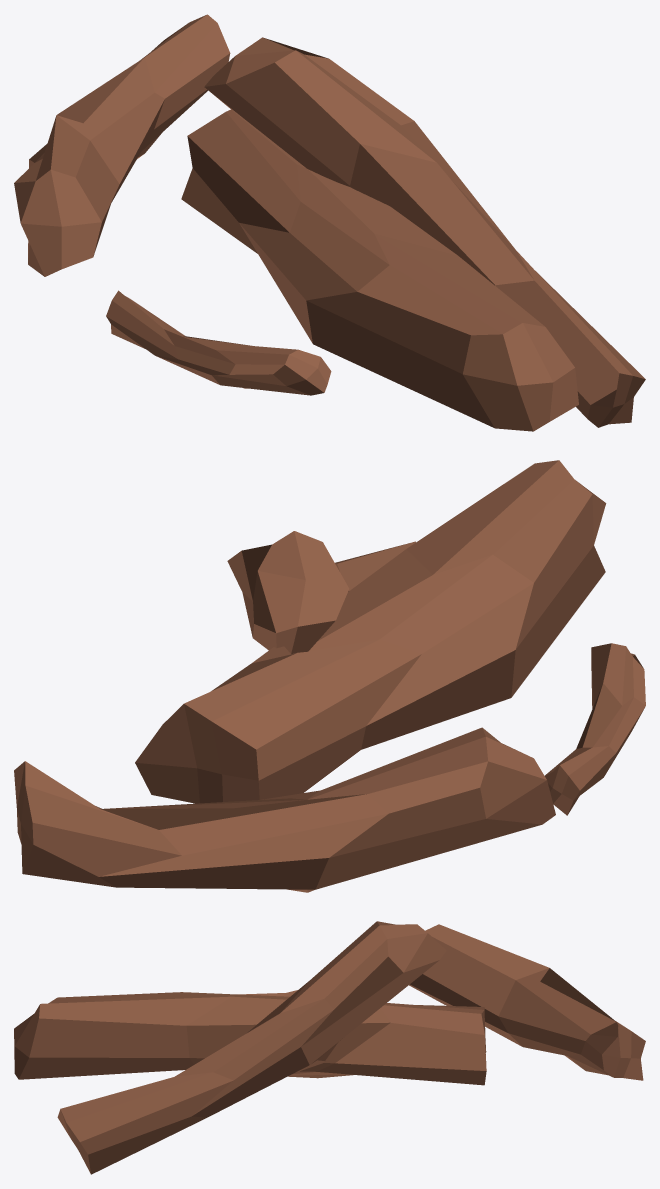
The model's file is Sticks.fbx.
The picture shows the model from 3 angles, top to bottom: view 1: azimuth 30°, elevation 25°; view 2: azimuth 150°, elevation 25°; view 3: azimuth 270°, elevation 25°; orthographic projection. The views are drawn at different scales.
Parts seen in each view (by area): view 1: Cube, Cube.001, Cube.002, Cube.003; view 2: Cube, Cube.002, Cube.001, Cube.003; view 3: Cube, Cube.001, Cube.002.
Part boxes in pixels (box(x1,y1,x2,y2)): Cube: box(181, 109, 578, 431); Cube.001: box(204, 37, 645, 427); Cube.002: box(14, 14, 230, 276); Cube.003: box(106, 290, 331, 395); Cube: box(135, 460, 606, 803); Cube.002: box(14, 727, 555, 892); Cube.001: box(227, 531, 415, 653); Cube.003: box(545, 643, 645, 815); Cube: box(14, 992, 486, 1085); Cube.001: box(57, 921, 446, 1174); Cube.002: box(409, 924, 645, 1080).
Bounding box in the file's own units: 189 × 121 × 350.
